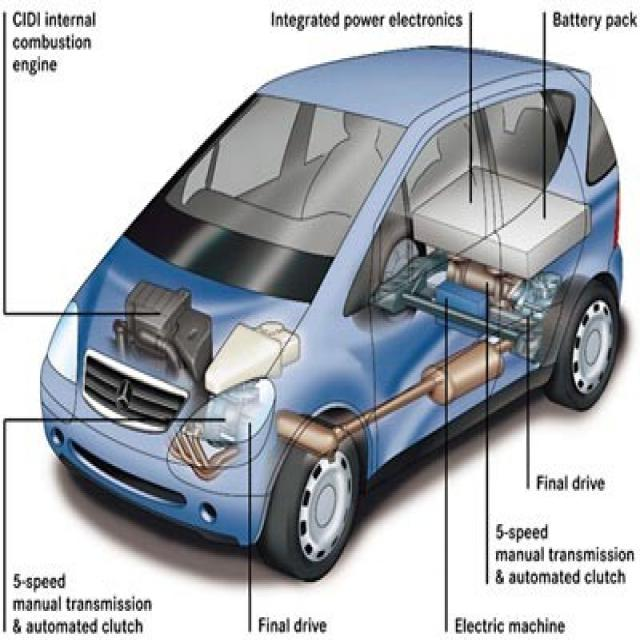Car: (34, 49, 630, 571)
